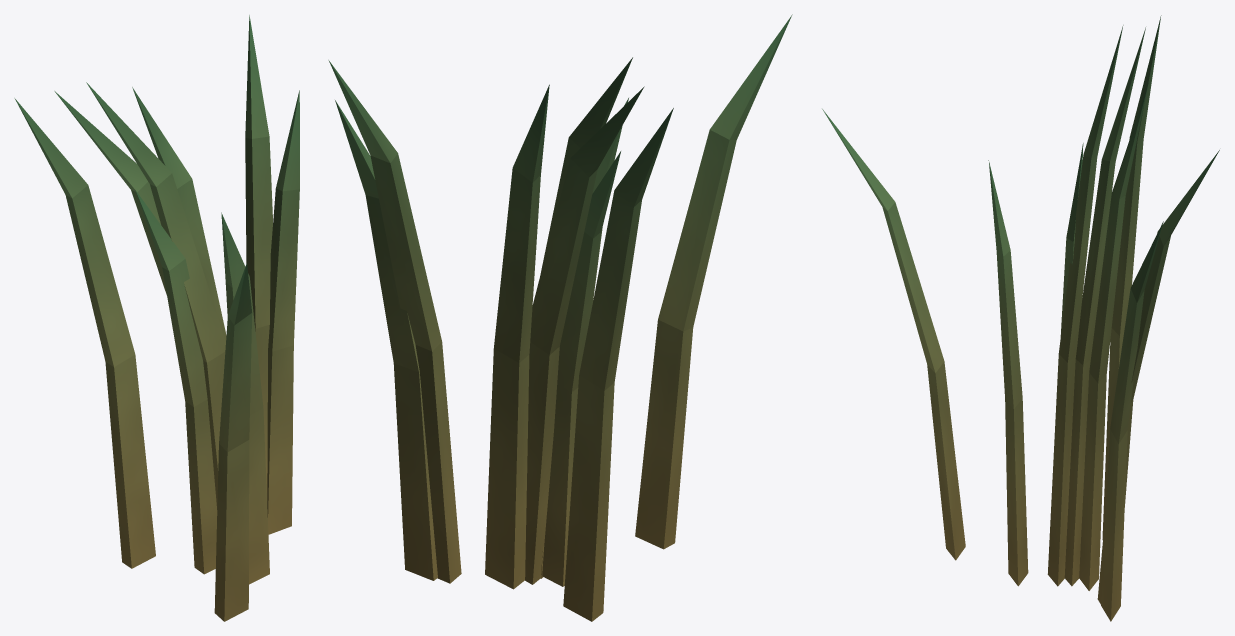
The model's file is reed_clump_b.glb.
3 renders of one model, left to right at view 1: azimuth 30°, elevation 25°; view 2: azimuth 150°, elevation 25°; view 3: azimuth 270°, elevation 25°, orthographic. The views are drawn at different scales.
Visible parts, largest first — view 1: reed_clump_b; view 2: reed_clump_b; view 3: reed_clump_b.
Part boxes in pixels (left/top/right/bottom): reed_clump_b: left=14, top=15, right=299, bottom=621; reed_clump_b: left=328, top=14, right=792, bottom=621; reed_clump_b: left=822, top=15, right=1219, bottom=621.
Size of the model in its own units: 0.663 by 1.08 by 0.7843.
Materials: 1 (1 with a texture image).
